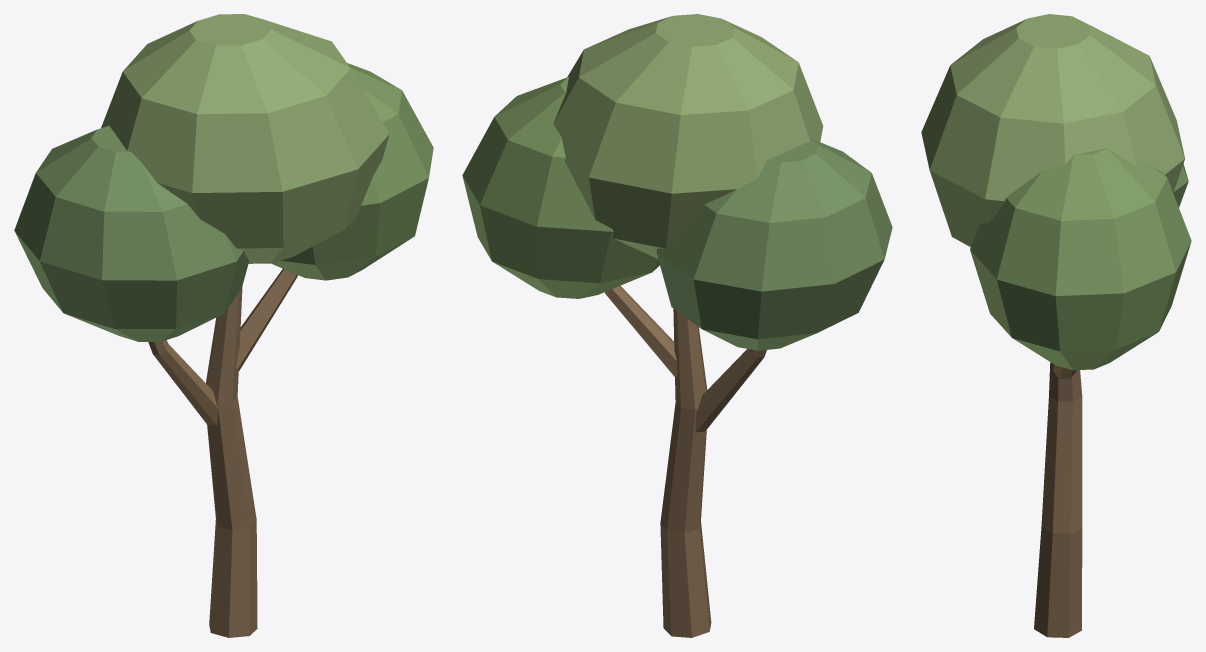
The model's file is street-broadleaf.glb.
3 views of the same model, side by side, from view 1: azimuth 30°, elevation 25°; view 2: azimuth 150°, elevation 25°; view 3: azimuth 270°, elevation 25° (orthographic).
Visible parts, largest first — view 1: street-broadleaf; view 2: street-broadleaf; view 3: street-broadleaf.
Part boxes in pixels (x1=…): street-broadleaf: x1=14, y1=14, x2=433, y2=637; street-broadleaf: x1=462, y1=14, x2=892, y2=637; street-broadleaf: x1=921, y1=14, x2=1191, y2=637.
Size of the model in its own units: 4.74 by 6.9 by 2.84.
